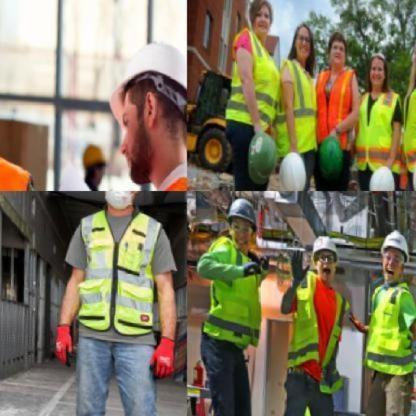capacete: (114, 43, 189, 110), (318, 136, 350, 189), (249, 132, 278, 181), (381, 226, 416, 254), (283, 157, 307, 192), (369, 165, 395, 191), (229, 198, 259, 219), (310, 234, 340, 253)
oculos: (228, 217, 258, 234), (315, 250, 343, 267), (380, 255, 414, 267)
